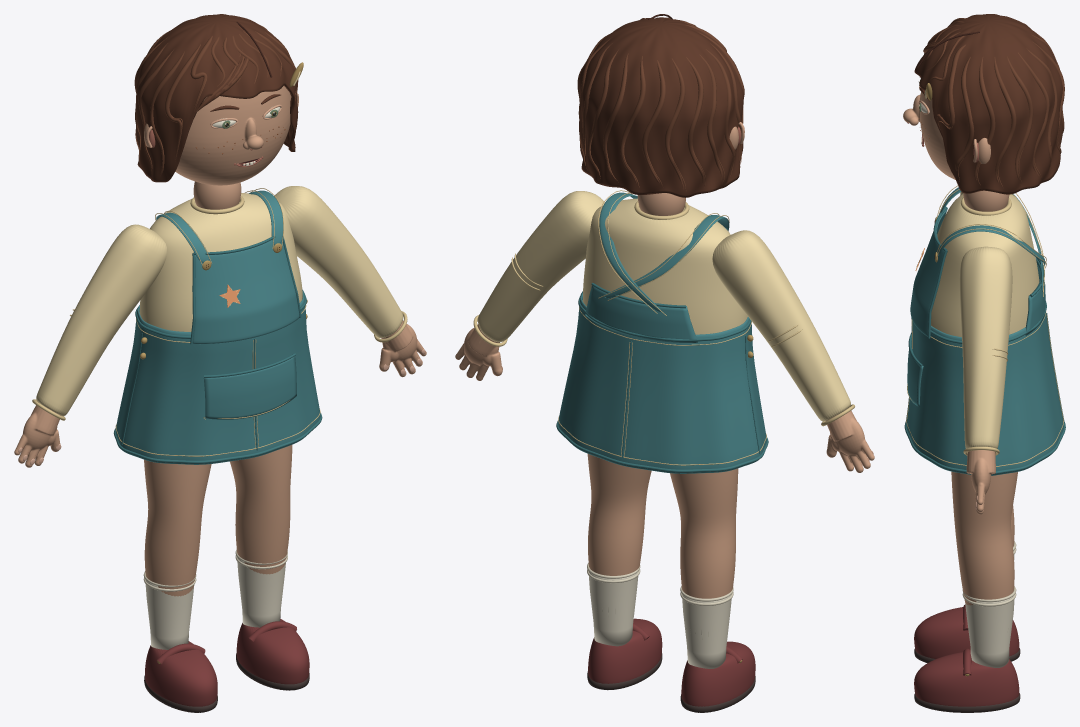
3 renders of one model, left to right at view 1: azimuth 30°, elevation 25°; view 2: azimuth 150°, elevation 25°; view 3: azimuth 270°, elevation 25°, orthographic.
Visible parts, largest first — view 1: 06 | Pinafore - full skirt with fabric thickness, 04 | Uneven wavy bob - continuous thick shell, L jersey sleeve, Pinafore front bib, 01 | Jersey - rounded child torso, R jersey sleeve, 03 | Esme - continuous cheek nose jaw ears, 07 | L leg - knee calf ankle, 07 | R leg - knee calf ankle, Pinafore roomy patch pocket, Hair | chestnut sculpted waves, 08 | R leather Mary Jane shoe (+10 smaller); view 2: 06 | Pinafore - full skirt with fabric thickness, 04 | Uneven wavy bob - continuous thick shell, 01 | Jersey - rounded child torso, L jersey sleeve, R jersey sleeve, 07 | L leg - knee calf ankle, 07 | R leg - knee calf ankle, Hair | chestnut sculpted waves, Pinafore shaped back yoke, 08 | R leather Mary Jane shoe, 08 | L leather Mary Jane shoe, L oatmeal sock (+8 smaller); view 3: 04 | Uneven wavy bob - continuous thick shell, 06 | Pinafore - full skirt with fabric thickness, R jersey sleeve, 01 | Jersey - rounded child torso, 07 | R leg - knee calf ankle, Hair | chestnut sculpted waves, 08 | R leather Mary Jane shoe, R oatmeal sock, 08 | L leather Mary Jane shoe, Pinafore front bib, 03 | Esme - continuous cheek nose jaw ears, Clothing | ochre construction stitching (+12 smaller).
Boxes of the visible parts, left/top/right/bottom form: 06 | Pinafore - full skirt with fabric thickness: left=115, top=290, right=320, bottom=464; 04 | Uneven wavy bob - continuous thick shell: left=136, top=14, right=298, bottom=182; L jersey sleeve: left=36, top=224, right=167, bottom=416; Pinafore front bib: left=192, top=240, right=299, bottom=344; 01 | Jersey - rounded child torso: left=139, top=193, right=302, bottom=331; R jersey sleeve: left=274, top=186, right=403, bottom=338; 03 | Esme - continuous cheek nose jaw ears: left=144, top=86, right=291, bottom=185; 07 | L leg - knee calf ankle: left=144, top=459, right=211, bottom=596; 07 | R leg - knee calf ankle: left=230, top=445, right=292, bottom=574; Pinafore roomy patch pocket: left=203, top=356, right=296, bottom=419; Hair | chestnut sculpted waves: left=134, top=23, right=298, bottom=174; 08 | R leather Mary Jane shoe: left=236, top=618, right=309, bottom=684; 06 | Pinafore - full skirt with fabric thickness: left=558, top=292, right=766, bottom=473; 04 | Uneven wavy bob - continuous thick shell: left=578, top=17, right=743, bottom=197; 01 | Jersey - rounded child torso: left=582, top=198, right=747, bottom=334; L jersey sleeve: left=712, top=230, right=850, bottom=421; R jersey sleeve: left=477, top=191, right=604, bottom=342; 07 | L leg - knee calf ankle: left=670, top=468, right=738, bottom=598; 07 | R leg - knee calf ankle: left=587, top=454, right=651, bottom=575; Hair | chestnut sculpted waves: left=577, top=17, right=744, bottom=189; Pinafore shaped back yoke: left=585, top=284, right=697, bottom=342; 08 | R leather Mary Jane shoe: left=588, top=618, right=662, bottom=683; 08 | L leather Mary Jane shoe: left=681, top=641, right=755, bottom=706; L oatmeal sock: left=682, top=594, right=731, bottom=668; 04 | Uneven wavy bob - continuous thick shell: left=914, top=14, right=1062, bottom=194; 06 | Pinafore - full skirt with fabric thickness: left=906, top=312, right=1063, bottom=475; R jersey sleeve: left=959, top=246, right=1012, bottom=448; 01 | Jersey - rounded child torso: left=931, top=194, right=1039, bottom=337; 07 | R leg - knee calf ankle: left=951, top=471, right=1017, bottom=605; Hair | chestnut sculpted waves: left=922, top=18, right=1064, bottom=185; 08 | R leather Mary Jane shoe: left=914, top=652, right=1019, bottom=706; R oatmeal sock: left=965, top=595, right=1014, bottom=667; 08 | L leather Mary Jane shoe: left=914, top=607, right=1019, bottom=658; Pinafore front bib: left=910, top=209, right=947, bottom=336; 03 | Esme - continuous cheek nose jaw ears: left=903, top=91, right=990, bottom=179; Clothing | ochre construction stitching: left=906, top=185, right=1063, bottom=467.
Size of the model in its own units: 0.9058 by 1.38 by 0.3088.
